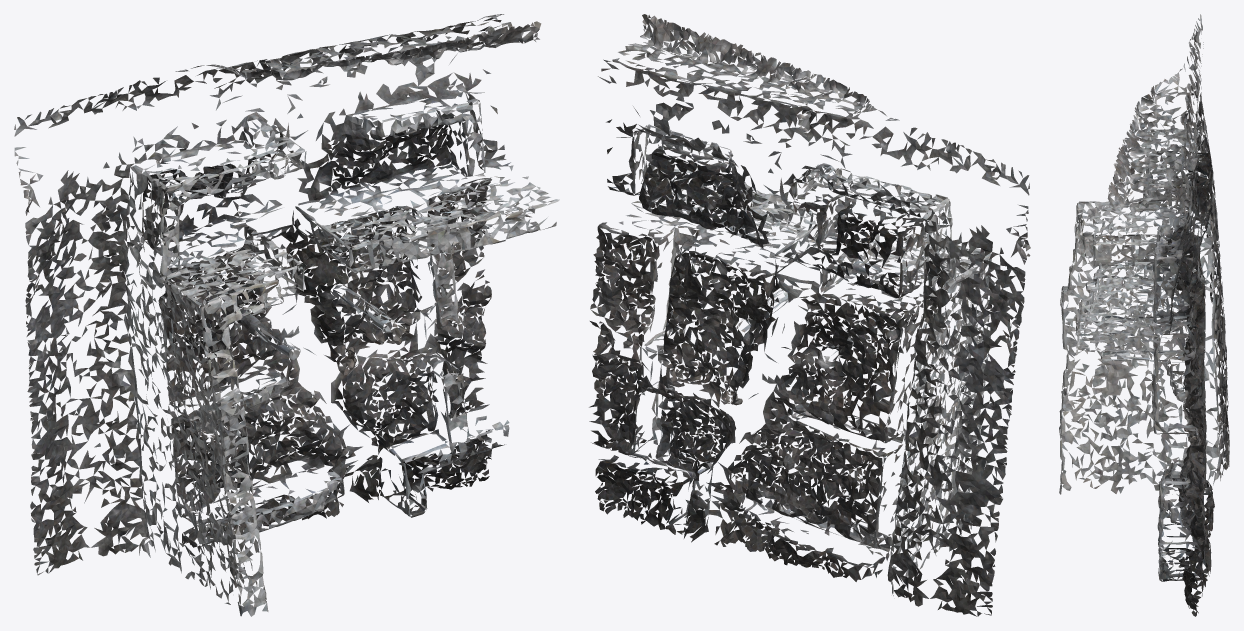
The picture shows the model from 3 angles, left to right: view 1: azimuth 30°, elevation 25°; view 2: azimuth 150°, elevation 25°; view 3: azimuth 270°, elevation 25°; orthographic projection. The views are drawn at different scales.
Size of the model in its own units: 13.63 by 13.71 by 4.92.
Materials: 1 (1 with a texture image).
